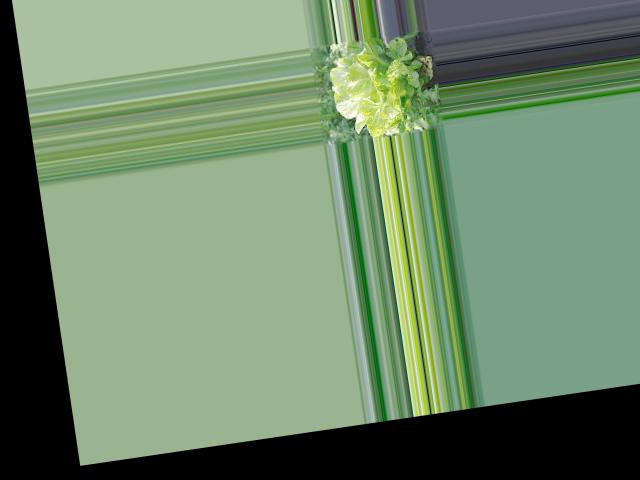lettuce: (327, 35, 422, 132)
